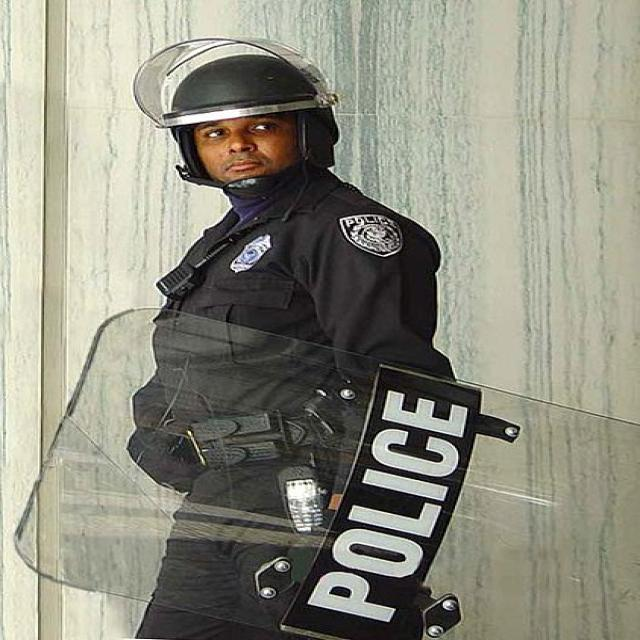police: (42, 0, 538, 640)
